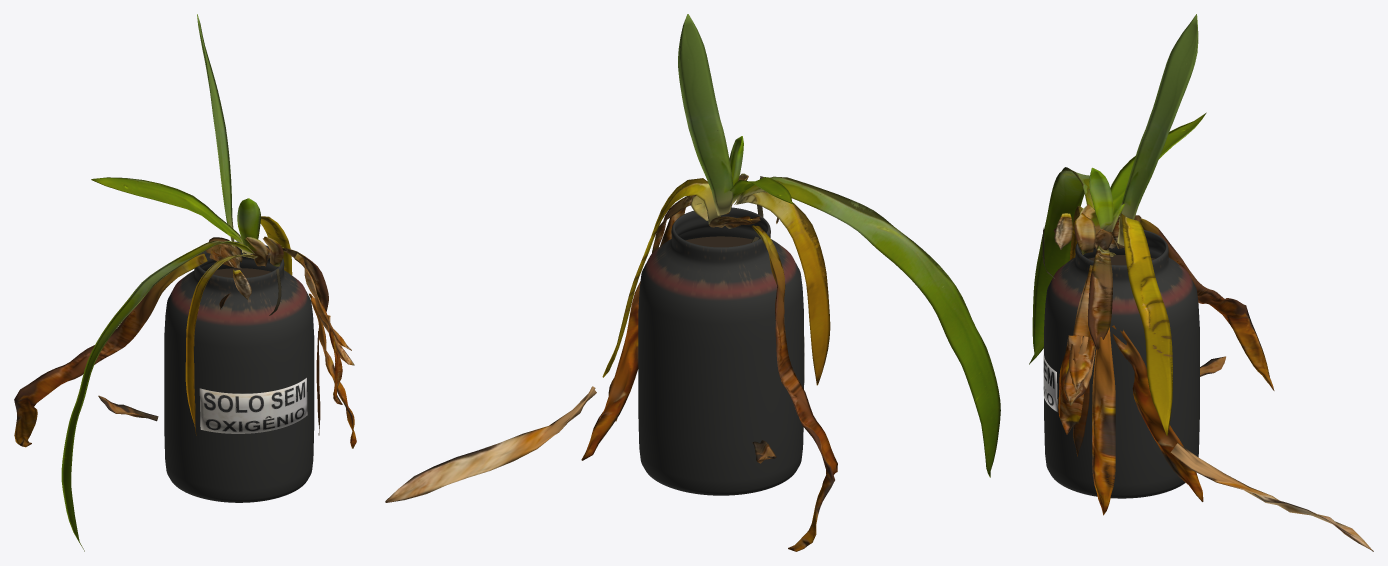
File: solo_sem_oxigenio_07_03.glb
3 renders of one model, left to right at view 1: azimuth 30°, elevation 25°; view 2: azimuth 150°, elevation 25°; view 3: azimuth 270°, elevation 25°, orthographic. The views are drawn at different scales.
Visible parts, largest first — view 1: Vidro, Etiqueta, Folha_S14_seca_pintada, Folha_S01_arco_longo, Folha_S02_curta_esq, Folha_S03_alta, Folha_S05_amarela_esq, Folha_S19_seca_laranja, Folha_S04_interna, Folha_S06_amarela_dir, Folha_S16_seca_oliva, Folha_S17_seca_bege (+4 smaller); view 2: Vidro, Folha_S01_arco_longo, Folha_S03_alta, Folha_S05_amarela_esq, Folha_S22_seca_branca, Folha_S14_seca_pintada, Folha_S20_seca_laranja2, Folha_S06_amarela_dir, Folha_S02_curta_esq; view 3: Vidro, Folha_S06_amarela_dir, Folha_S03_alta, Folha_S01_arco_longo, Folha_S19_seca_laranja, Folha_S20_seca_laranja2, Folha_S14_seca_pintada, Folha_S16_seca_oliva, Folha_S22_seca_branca, Folha_S17_seca_bege, Folha_S02_curta_esq, Folha_S21_seca_centro (+6 smaller).
Part boxes in pixels (x1=…): Vidro: x1=164, y1=241, x2=314, y2=502; Etiqueta: x1=199, y1=377, x2=307, y2=433; Folha_S14_seca_pintada: x1=14, y1=253, x2=207, y2=447; Folha_S01_arco_longo: x1=61, y1=240, x2=254, y2=551; Folha_S02_curta_esq: x1=91, y1=177, x2=242, y2=244; Folha_S03_alta: x1=197, y1=14, x2=234, y2=247; Folha_S05_amarela_esq: x1=185, y1=253, x2=257, y2=435; Folha_S19_seca_laranja: x1=309, y1=293, x2=356, y2=448; Folha_S04_interna: x1=237, y1=198, x2=260, y2=247; Folha_S06_amarela_dir: x1=242, y1=216, x2=292, y2=275; Folha_S16_seca_oliva: x1=282, y1=247, x2=328, y2=311; Folha_S17_seca_bege: x1=294, y1=253, x2=351, y2=350; Vidro: x1=638, y1=207, x2=803, y2=495; Folha_S01_arco_longo: x1=734, y1=176, x2=1000, y2=477; Folha_S03_alta: x1=678, y1=14, x2=733, y2=215; Folha_S05_amarela_esq: x1=736, y1=191, x2=830, y2=385; Folha_S22_seca_branca: x1=385, y1=386, x2=596, y2=502; Folha_S14_seca_pintada: x1=751, y1=225, x2=837, y2=551; Folha_S20_seca_laranja2: x1=581, y1=281, x2=640, y2=460; Folha_S06_amarela_dir: x1=602, y1=178, x2=720, y2=377; Folha_S02_curta_esq: x1=730, y1=177, x2=794, y2=204; Vidro: x1=1044, y1=230, x2=1199, y2=498; Folha_S06_amarela_dir: x1=1117, y1=213, x2=1172, y2=435; Folha_S03_alta: x1=1118, y1=14, x2=1198, y2=227; Folha_S01_arco_longo: x1=1029, y1=167, x2=1094, y2=364; Folha_S19_seca_laranja: x1=1092, y1=327, x2=1115, y2=515; Folha_S20_seca_laranja2: x1=1112, y1=325, x2=1203, y2=501; Folha_S14_seca_pintada: x1=1140, y1=218, x2=1274, y2=390; Folha_S16_seca_oliva: x1=1087, y1=245, x2=1112, y2=350; Folha_S22_seca_branca: x1=1170, y1=443, x2=1373, y2=551; Folha_S17_seca_bege: x1=1069, y1=264, x2=1098, y2=392; Folha_S02_curta_esq: x1=1105, y1=112, x2=1206, y2=231; Folha_S21_seca_centro: x1=1058, y1=335, x2=1084, y2=434.
Size of the model in its own units: 0.3064 by 0.324 by 0.224.
Materials: 6 (5 with a texture image).
